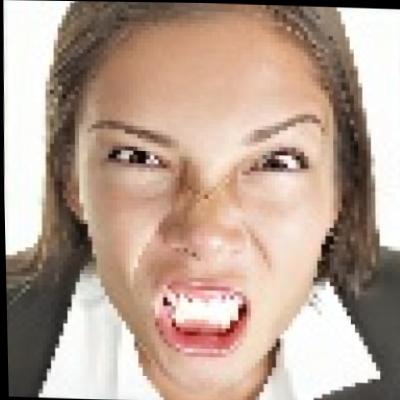angry: (68, 27, 349, 377)
